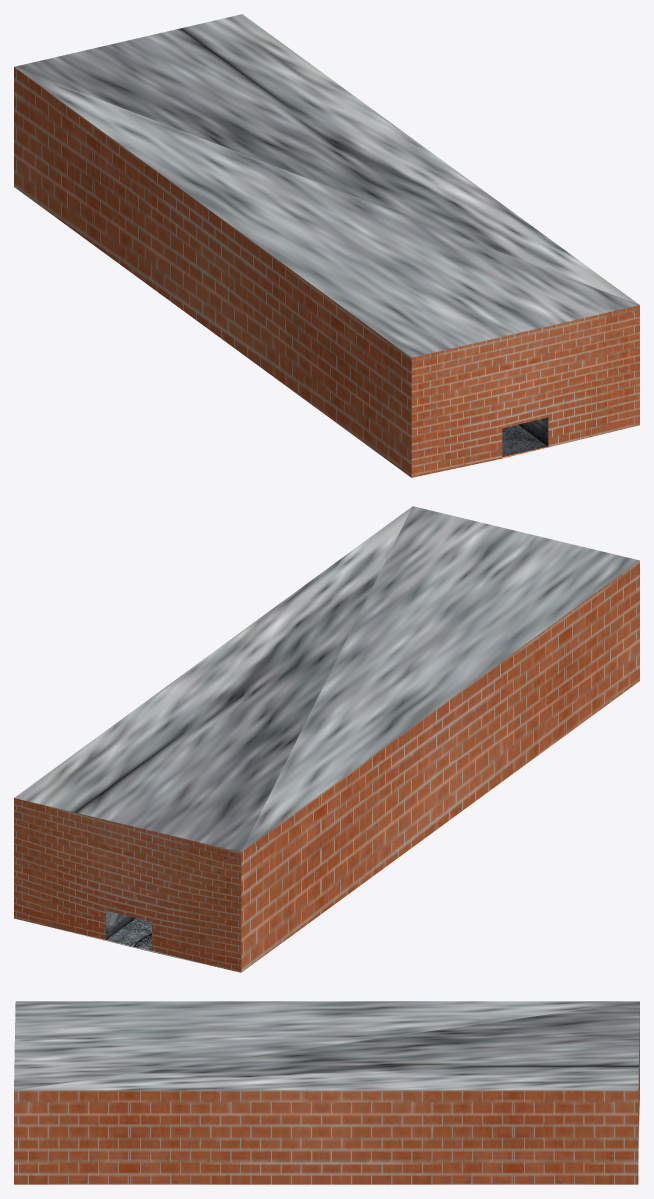
Rendered from test_building.obj.
3 renders of one model, top to bottom at view 1: azimuth 30°, elevation 25°; view 2: azimuth 150°, elevation 25°; view 3: azimuth 270°, elevation 25°, orthographic. The views are drawn at different scales.
Parts seen in each view (by area): view 1: obj_0; view 2: obj_0; view 3: obj_0.
Boxes of the visible parts, x1=… form: obj_0: x1=14, y1=14, x2=639, y2=477; obj_0: x1=14, y1=506, x2=639, y2=972; obj_0: x1=14, y1=1001, x2=639, y2=1184.
Bounding box in the file's own units: 19.83 × 10.17 × 60.15.
